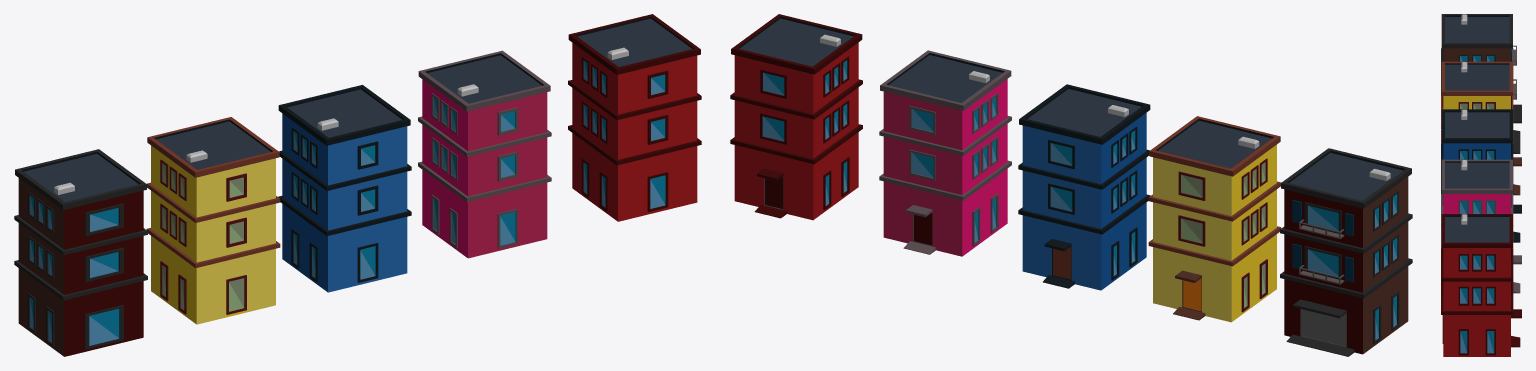
File: buildings.fbx
3 renders of one model, left to right at view 1: azimuth 30°, elevation 25°; view 2: azimuth 150°, elevation 25°; view 3: azimuth 270°, elevation 25°, orthographic. The views are drawn at different scales.
Visible parts, largest first — view 1: red.001, pink.001, chocklate, blue, yellow; view 2: chocklate, red.001, pink.001, blue, yellow; view 3: red.001, pink.001, chocklate, blue, yellow.
Part boxes in pixels (bbox=[...]): red.001: bbox=[568, 14, 701, 221]; pink.001: bbox=[418, 50, 551, 258]; chocklate: bbox=[14, 149, 147, 356]; blue: bbox=[278, 85, 411, 292]; yellow: bbox=[146, 117, 280, 324]; chocklate: bbox=[1280, 148, 1412, 356]; red.001: bbox=[730, 14, 862, 220]; pink.001: bbox=[879, 50, 1011, 256]; blue: bbox=[1018, 84, 1150, 290]; yellow: bbox=[1148, 116, 1281, 322]; red.001: bbox=[1441, 214, 1521, 356]; pink.001: bbox=[1441, 159, 1521, 293]; chocklate: bbox=[1441, 14, 1521, 153]; blue: bbox=[1441, 109, 1521, 242]; yellow: bbox=[1441, 61, 1521, 195].
Size of the model in its own units: 3537 by 836 by 524.
Materials: 1 (1 with a texture image).
